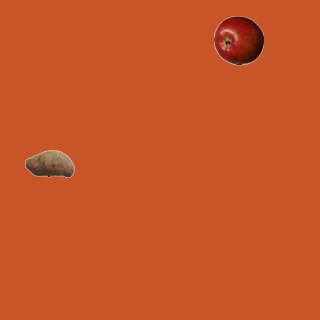Apple Braeburn: (213, 15, 263, 65)
Potato Sweet: (24, 138, 74, 188)
